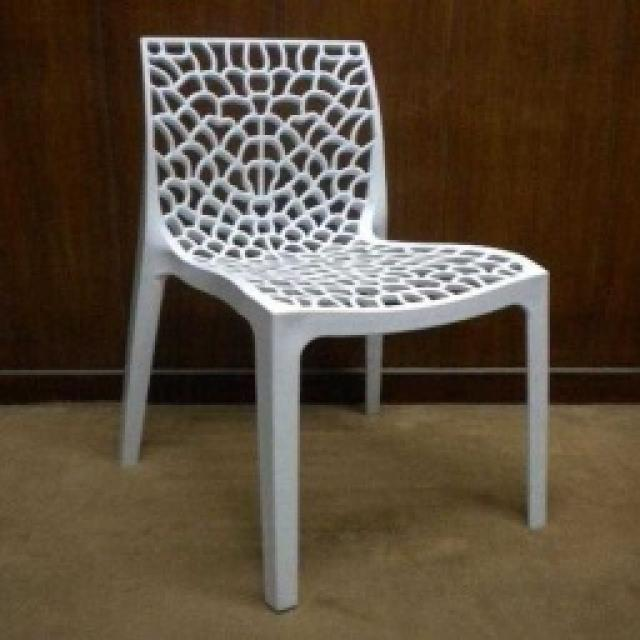sandalye: (115, 32, 550, 612)
